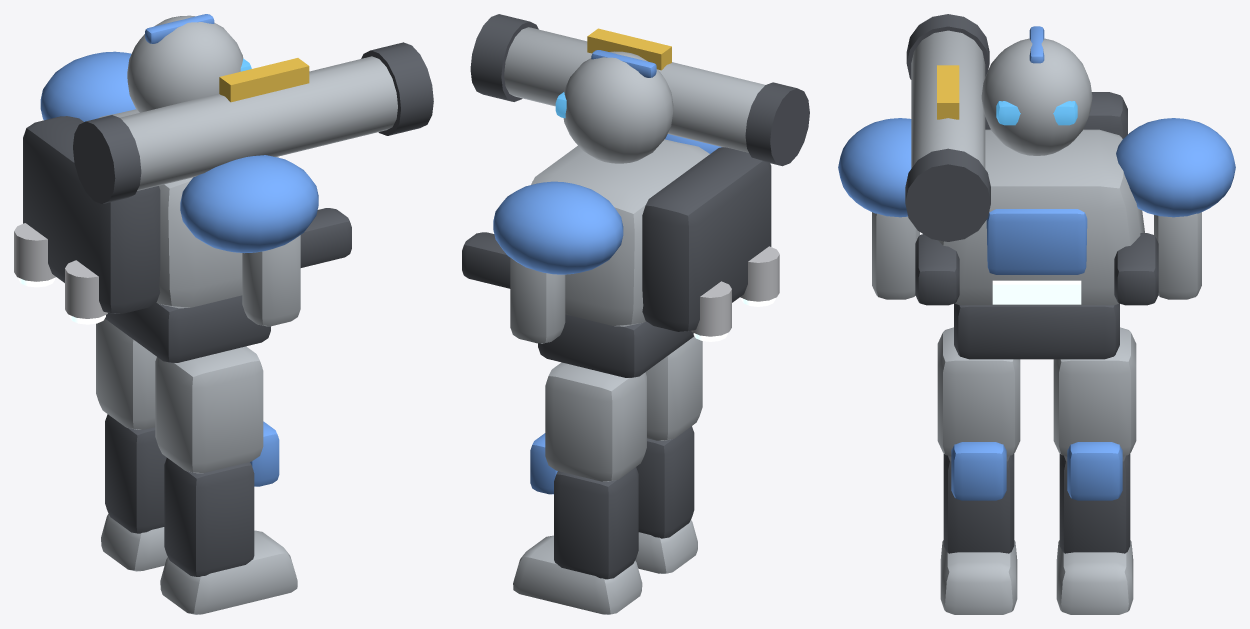
File: hum_at.glb
3 renders of one model, left to right at view 1: azimuth 30°, elevation 25°; view 2: azimuth 150°, elevation 25°; view 3: azimuth 270°, elevation 25°, orthographic. The views are drawn at different scales.
Visible parts, largest first — view 1: torso_m, knee_r_m, leg_r_m, knee_l_m, leg_l_m; view 2: torso_m, knee_l_m, leg_l_m, knee_r_m, leg_r_m; view 3: torso_m, knee_l_m, knee_r_m, leg_l_m, leg_r_m.
Part boxes in pixels (x1,y1,x2,y2): torso_m: (14, 14, 433, 362); knee_r_m: (160, 421, 297, 614); leg_r_m: (155, 346, 263, 473); knee_l_m: (101, 414, 167, 571); leg_l_m: (96, 319, 156, 429); torso_m: (462, 14, 809, 377); knee_l_m: (513, 433, 642, 614); leg_l_m: (545, 362, 646, 481); knee_r_m: (635, 426, 697, 573); leg_r_m: (645, 336, 702, 440); torso_m: (838, 14, 1235, 359); knee_l_m: (1056, 442, 1133, 614); knee_r_m: (940, 442, 1017, 614); leg_l_m: (1053, 327, 1136, 456); leg_r_m: (937, 327, 1020, 456).
Bounding box in the file's own units: 0.4942 × 0.81 × 0.5376.
